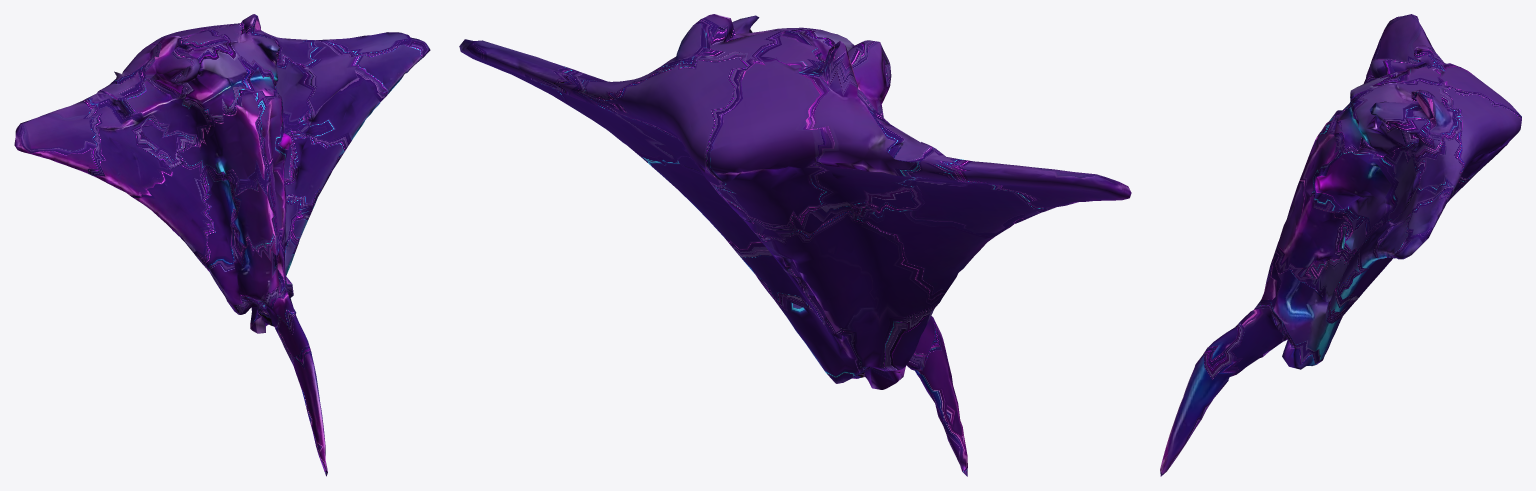
Rendered from manta.glb.
The picture shows the model from 3 angles, left to right: view 1: azimuth 30°, elevation 25°; view 2: azimuth 150°, elevation 25°; view 3: azimuth 270°, elevation 25°; orthographic projection. The views are drawn at different scales.
Parts seen in each view (by area): view 1: tripo_node_ae6c10d6-1fb9-46e1-8ffc-d7442567cfc6; view 2: tripo_node_ae6c10d6-1fb9-46e1-8ffc-d7442567cfc6; view 3: tripo_node_ae6c10d6-1fb9-46e1-8ffc-d7442567cfc6.
Boxes of the visible parts, x1,y1,x2,y2 form: tripo_node_ae6c10d6-1fb9-46e1-8ffc-d7442567cfc6: (14, 14, 430, 476); tripo_node_ae6c10d6-1fb9-46e1-8ffc-d7442567cfc6: (459, 14, 1131, 476); tripo_node_ae6c10d6-1fb9-46e1-8ffc-d7442567cfc6: (1160, 14, 1521, 476).
Size of the model in its own units: 0.9989 by 0.8354 by 0.6672.
Materials: 1 (1 with a texture image).
